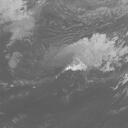cyclone: (28, 33, 103, 95)
